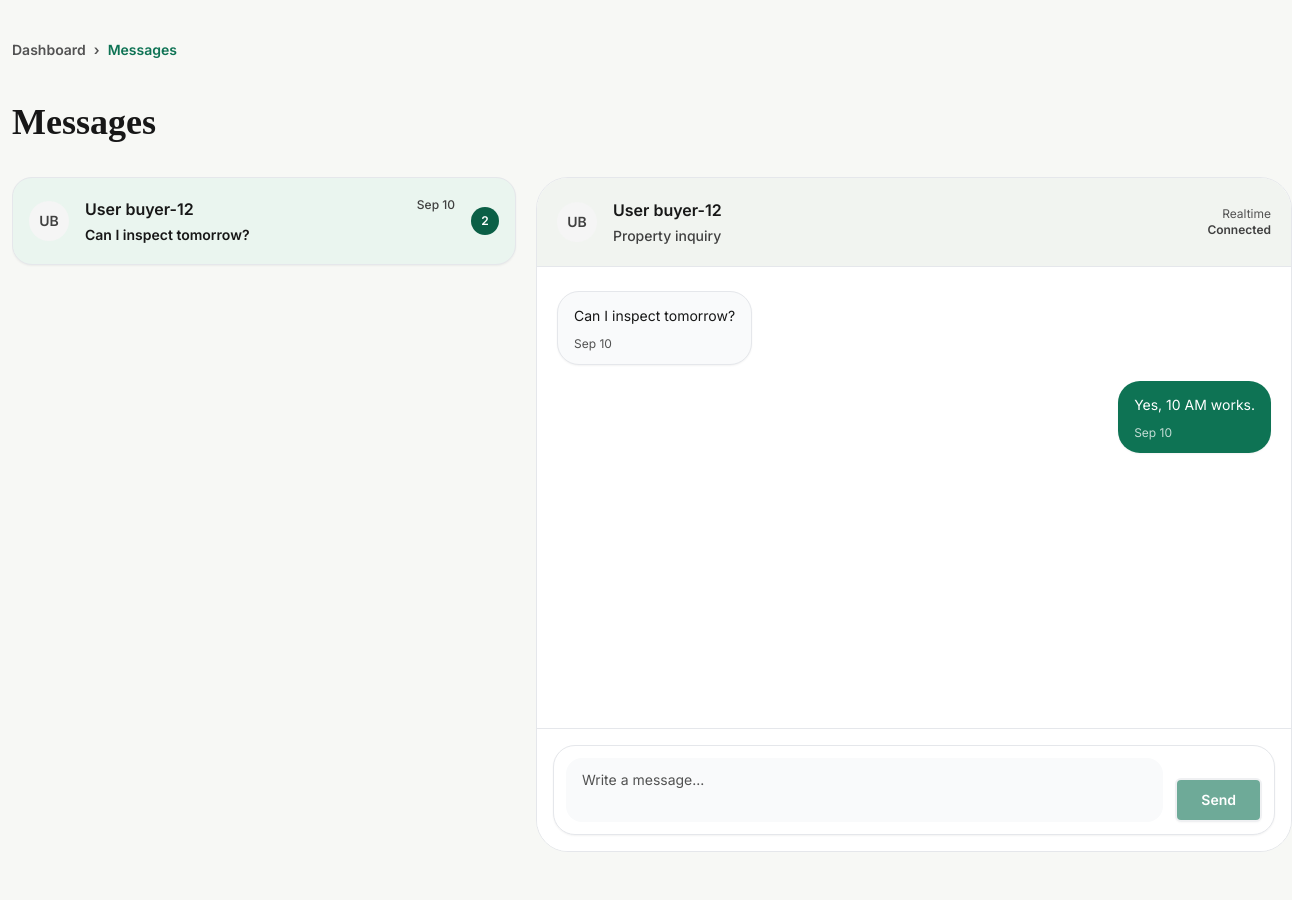
it: Reality messages › renders conversation direction and sends messages through the existing API
This screenshot has width=1292, height=900.
Expected: the 1st text "Can I inspect tomorrow?" is shown, [85, 226, 250, 243]
Expected: the text "Yes, 10 AM works." is shown, [1134, 393, 1255, 417]
In the text box labelled "Write a message": (865, 790) [566, 758, 1163, 822], type "I will confirm shortly."
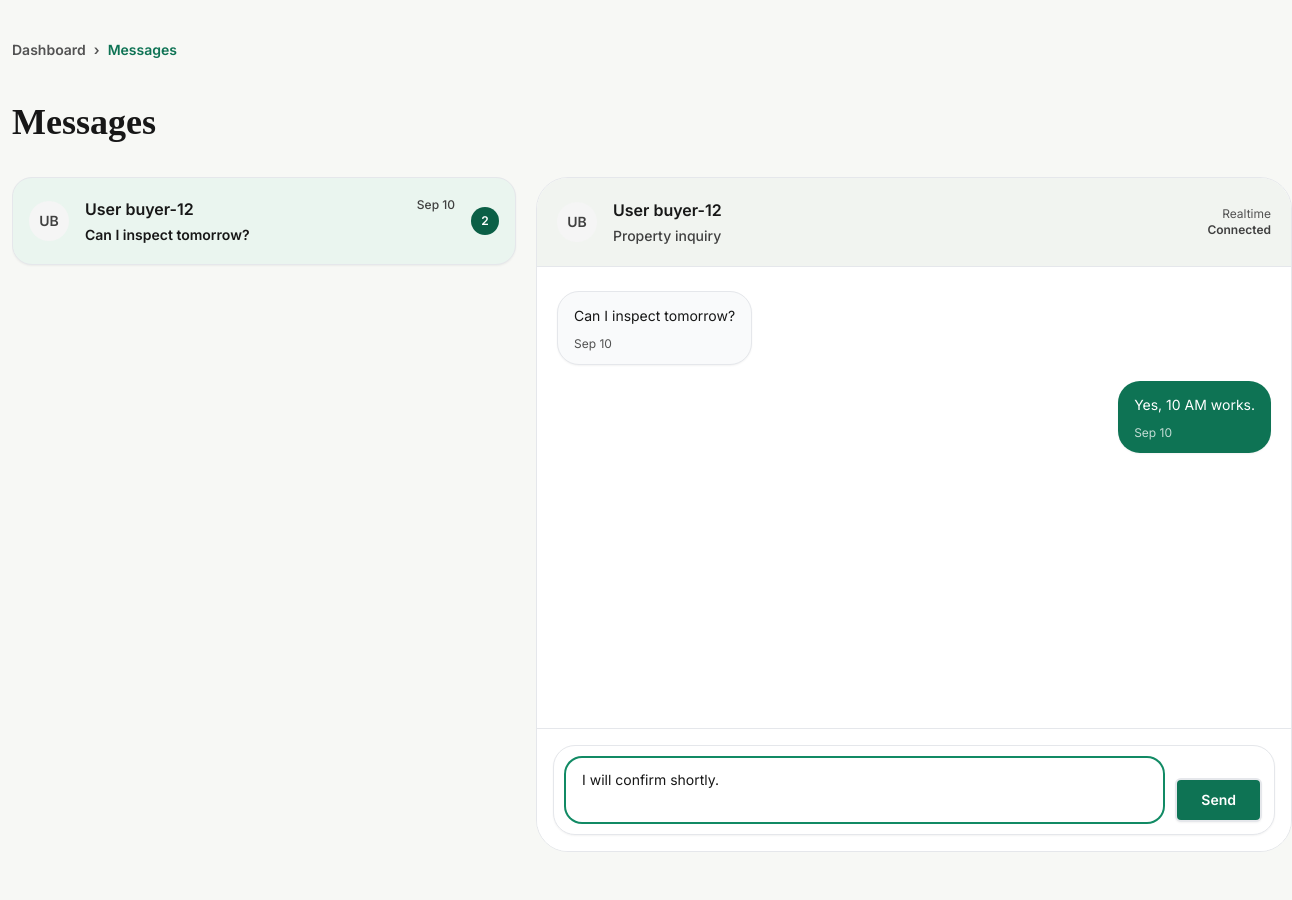
Click the button "Send": (1219, 800) [1175, 778, 1262, 822]
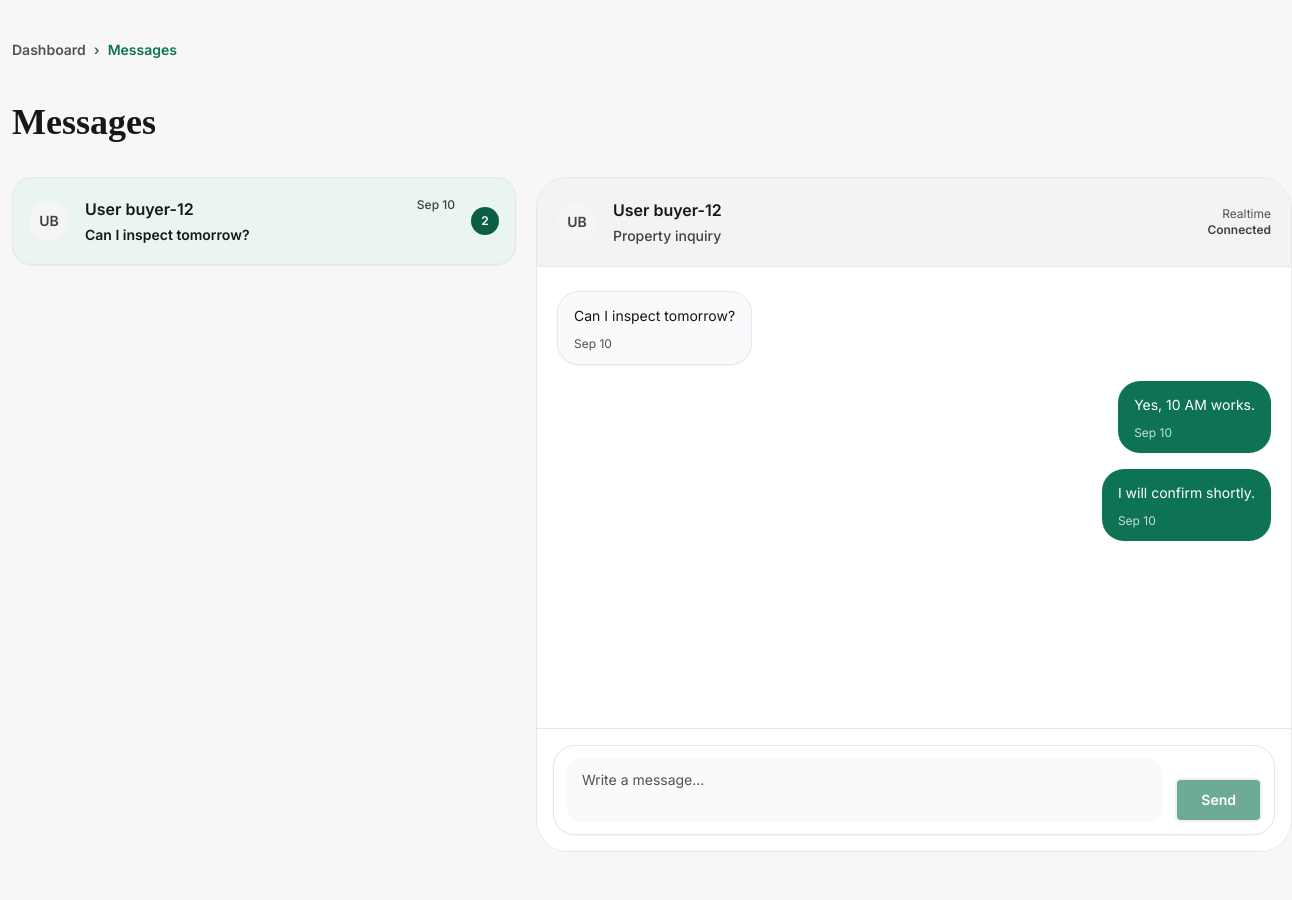
Result: the text "I will confirm shortly." is shown at [1118, 481, 1255, 505]
